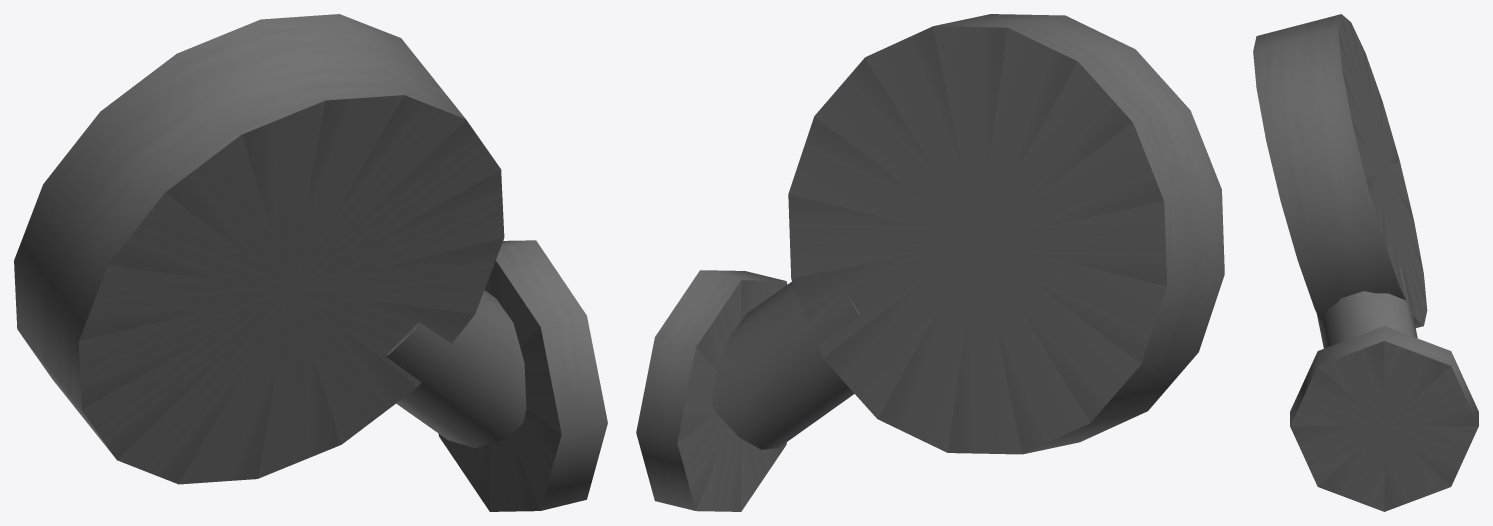
Rendered from mastarmcurve_8x2_c4_east.obj.
The picture shows the model from 3 angles, left to right: view 1: azimuth 30°, elevation 25°; view 2: azimuth 150°, elevation 25°; view 3: azimuth 270°, elevation 25°; orthographic projection. The views are drawn at different scales.
Visible parts, largest first — view 1: mastarm_8x2_c4_east; view 2: mastarm_8x2_c4_east; view 3: mastarm_8x2_c4_east.
Part boxes in pixels (x1=…): mastarm_8x2_c4_east: x1=14, y1=14, x2=607, y2=511; mastarm_8x2_c4_east: x1=636, y1=14, x2=1224, y2=511; mastarm_8x2_c4_east: x1=1253, y1=14, x2=1478, y2=511.
Bounding box in the file's own units: 0.8415 × 0.8953 × 0.4783.
